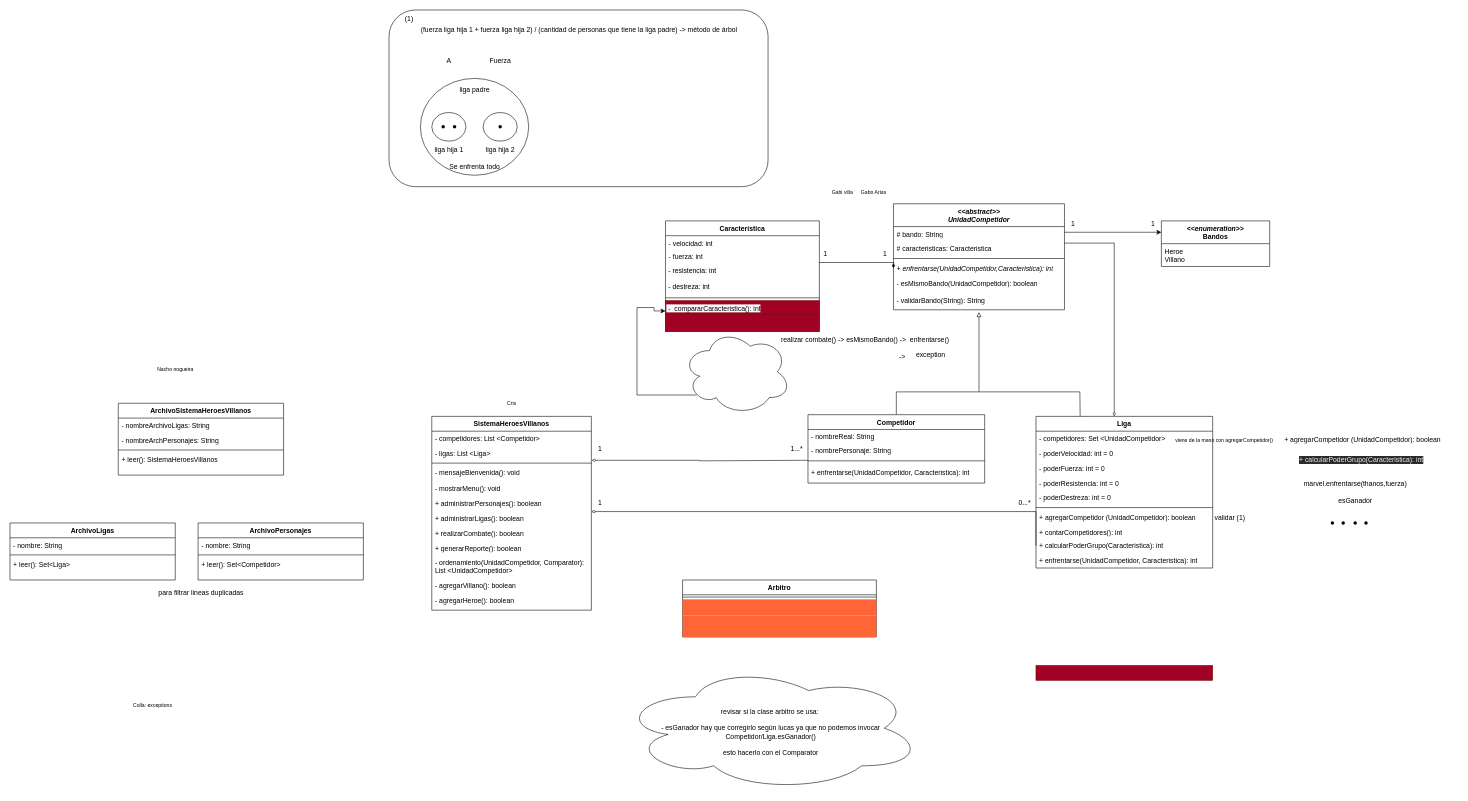
Some shapes in this 1468 by 801 pixel diagram are drawn without their labels. The centre of each missing label's shape, as x and y in pixels:
"+ obtenerResultadoDuelos(): List<UnidadCompetidor>" belongs at point 779,607.
"+ quitarCompetidor (UnidadCompetidor): boolean" belongs at point 1124,672.
"- esGanador(UnidadCompetidor, Caracteristica): boolean" belongs at point 779,626.
"- validarCaractesticas(int, String): int" belongs at point 742,322.
"Ver qué onda con comparator. Se hacen o no los métodos" belongs at point 736,372.
